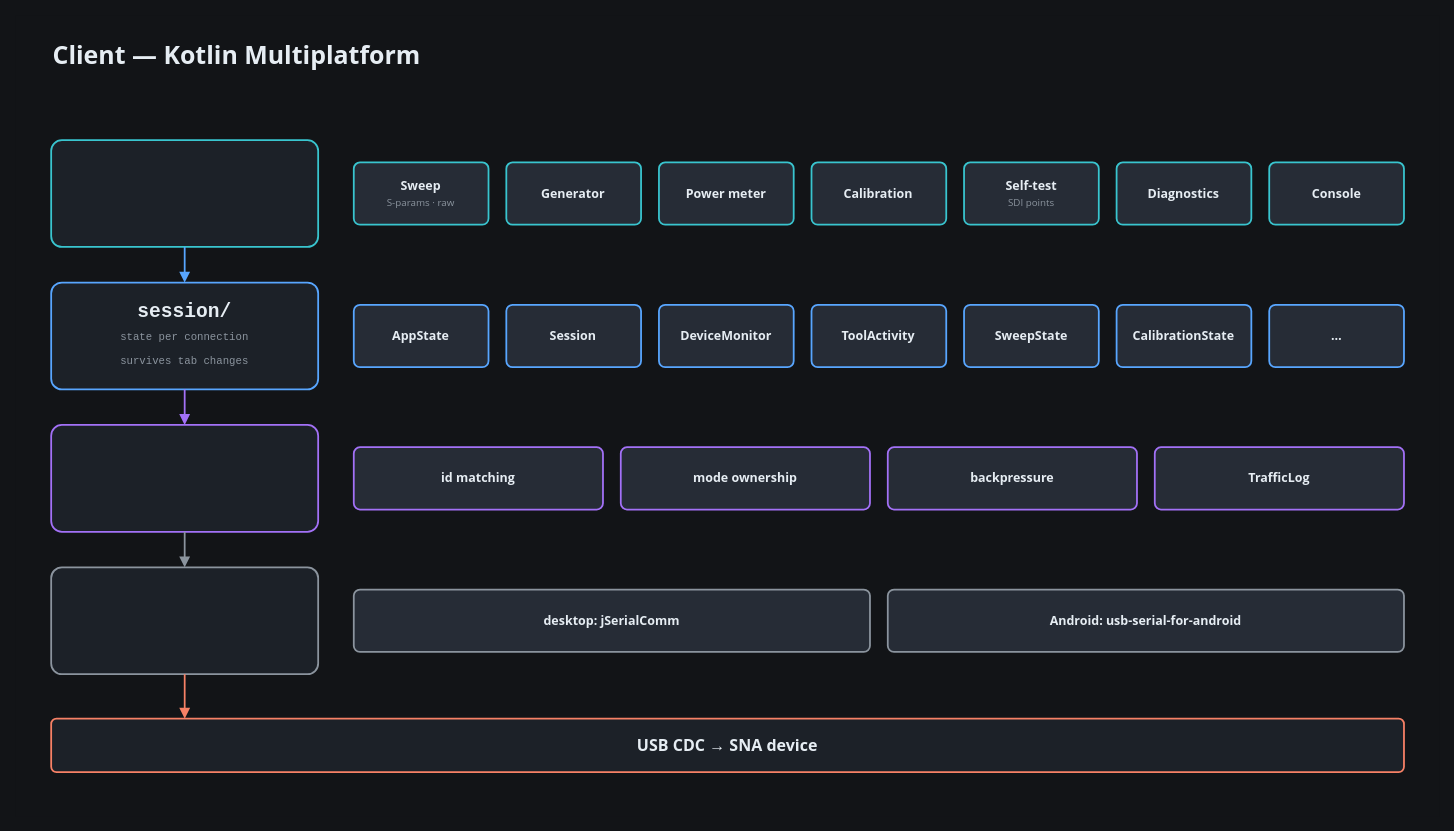
This 1454x831 diagram has some shape labels left out. The box of each missing label's shape, as (x1, y1, x2, y2) in pixels:
client/ SnaClient · coroutines: (50, 424, 319, 532)
transport SerialTransport: (50, 566, 319, 675)
ui/ one screen per tab: (50, 139, 319, 247)
